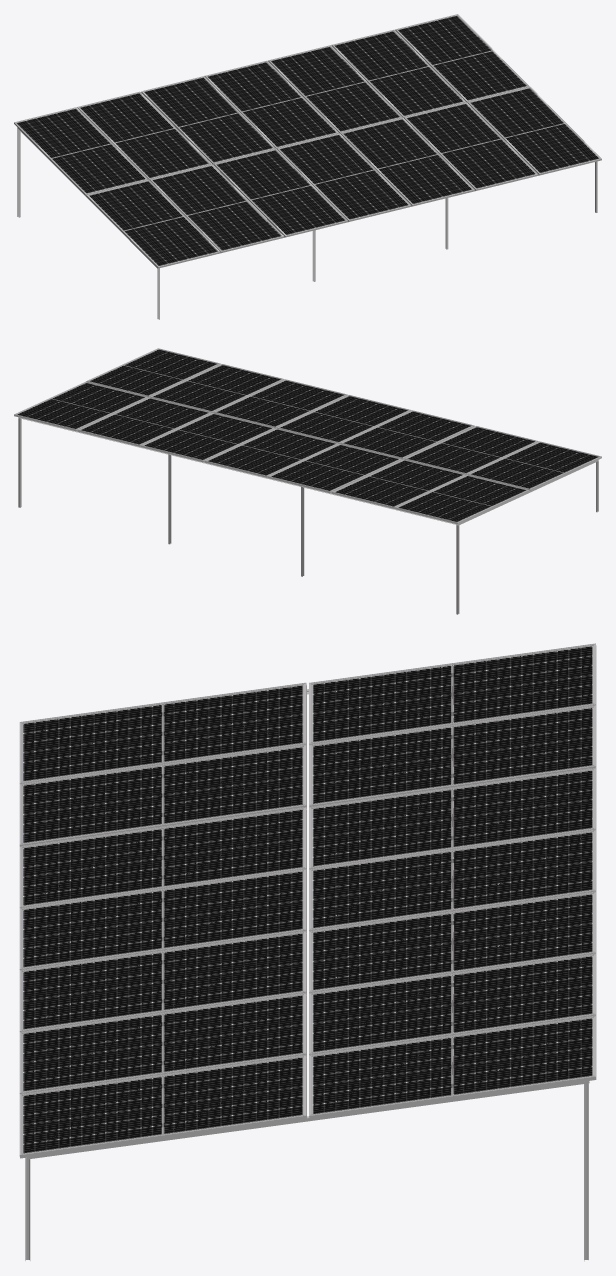
The picture shows the model from 3 angles, top to bottom: view 1: azimuth 30°, elevation 25°; view 2: azimuth 150°, elevation 25°; view 3: azimuth 270°, elevation 25°; orthographic projection. The views are drawn at different scales.
Parts seen in each view (by area): view 1: 7KW SOLARPANEL; view 2: 7KW SOLARPANEL; view 3: 7KW SOLARPANEL.
Part boxes in pixels (bbox=[...]): 7KW SOLARPANEL: bbox=[14, 14, 601, 319]; 7KW SOLARPANEL: bbox=[14, 348, 601, 614]; 7KW SOLARPANEL: bbox=[19, 643, 596, 1261].
Bounding box in the file's own units: 8.06 × 1.63 × 4.53.
1 material, 1 textured.
